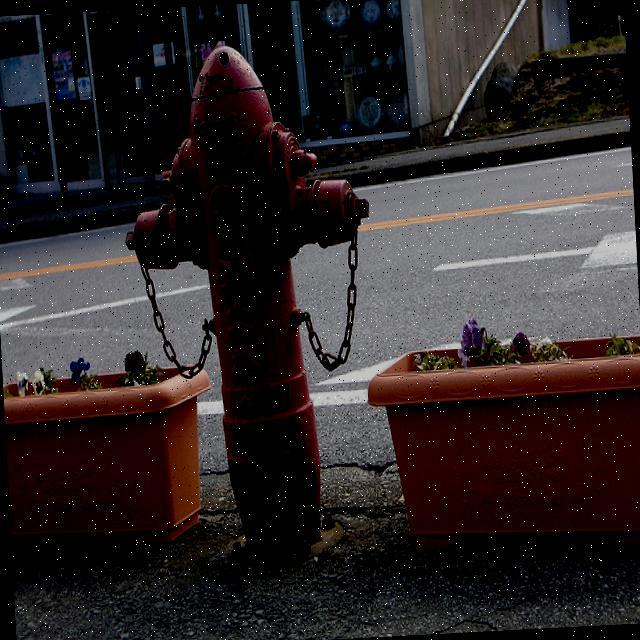fire_hydrant: (114, 26, 390, 570)
